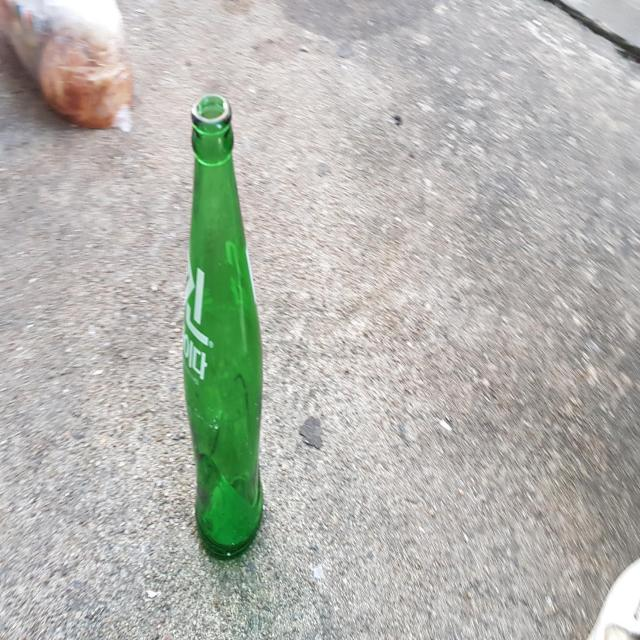glass: (183, 93, 263, 558)
